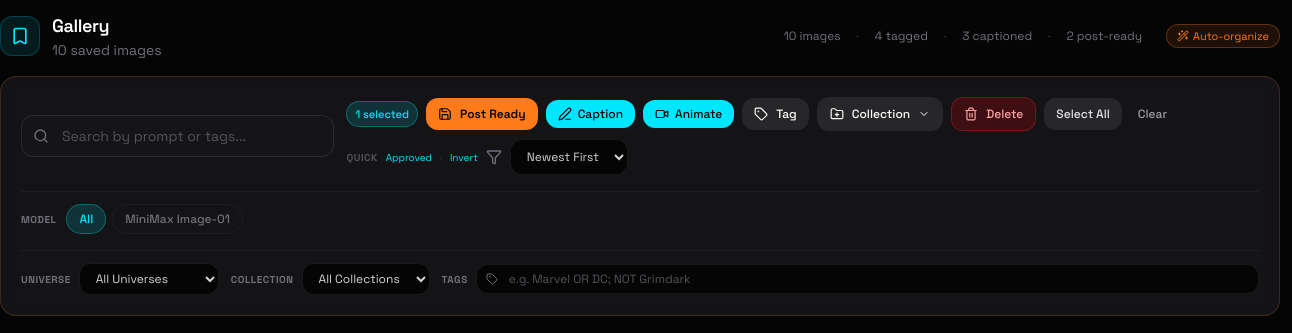
Test case: GalleryFilterBar › FEAT-3 — Batch add to collection dropdown › opens menu and lists existing collections when Collection button clicked
Click the button "Collection": (880, 114) [817,97,943,131]
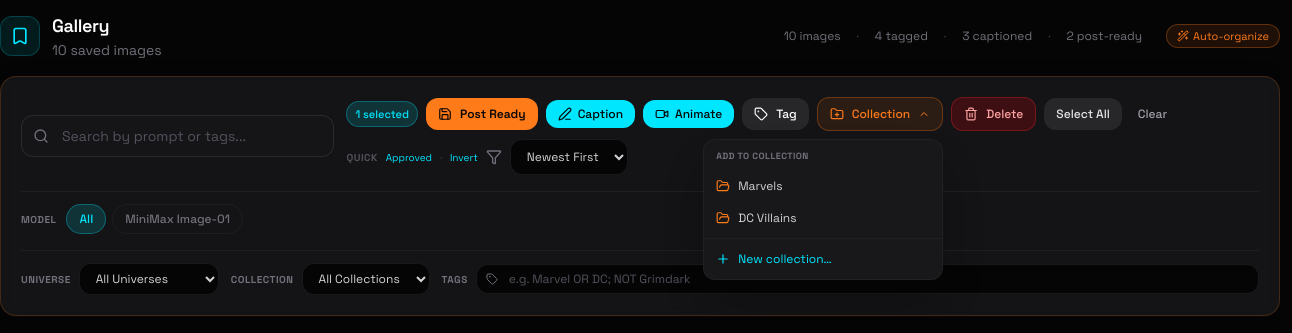
Now the menu named "add selected images to collection" is shown, box [703,139,943,280]
Now the menu item "Marvels" is shown, box [704,170,942,202]
Now the menu item "DC Villains" is shown, box [704,202,942,234]
